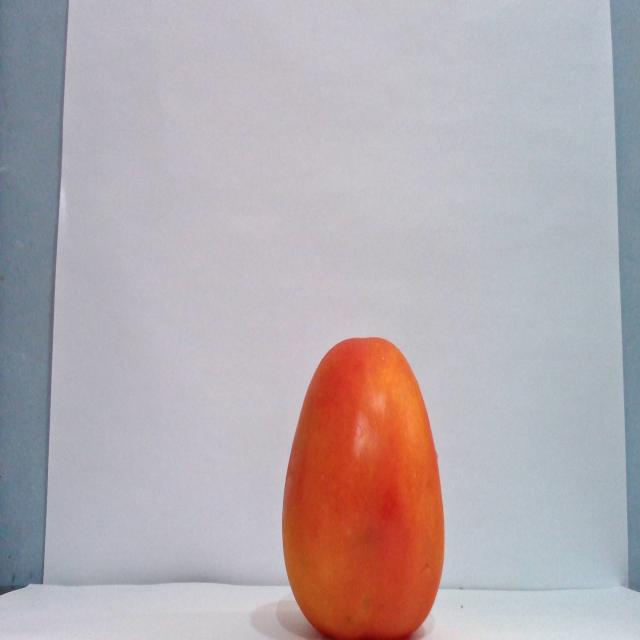Red: (280, 334, 446, 638)
